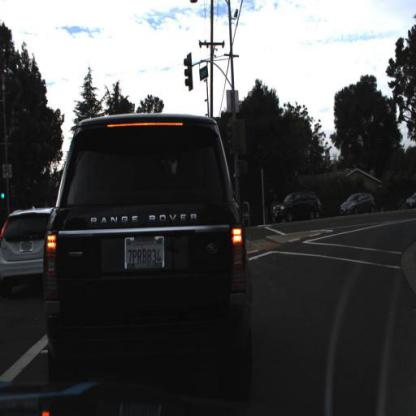car: (42, 111, 254, 377), (0, 204, 63, 286), (272, 188, 320, 223), (338, 190, 378, 217), (404, 186, 415, 208)
trafficLight-Green: (0, 185, 8, 210)
